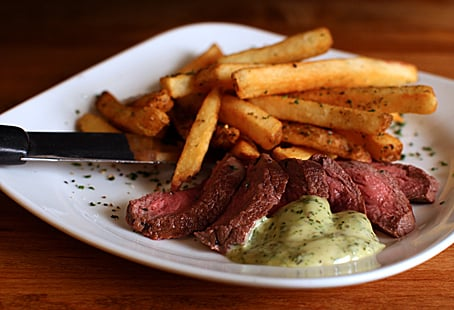sandwich: (1, 125, 181, 170)
